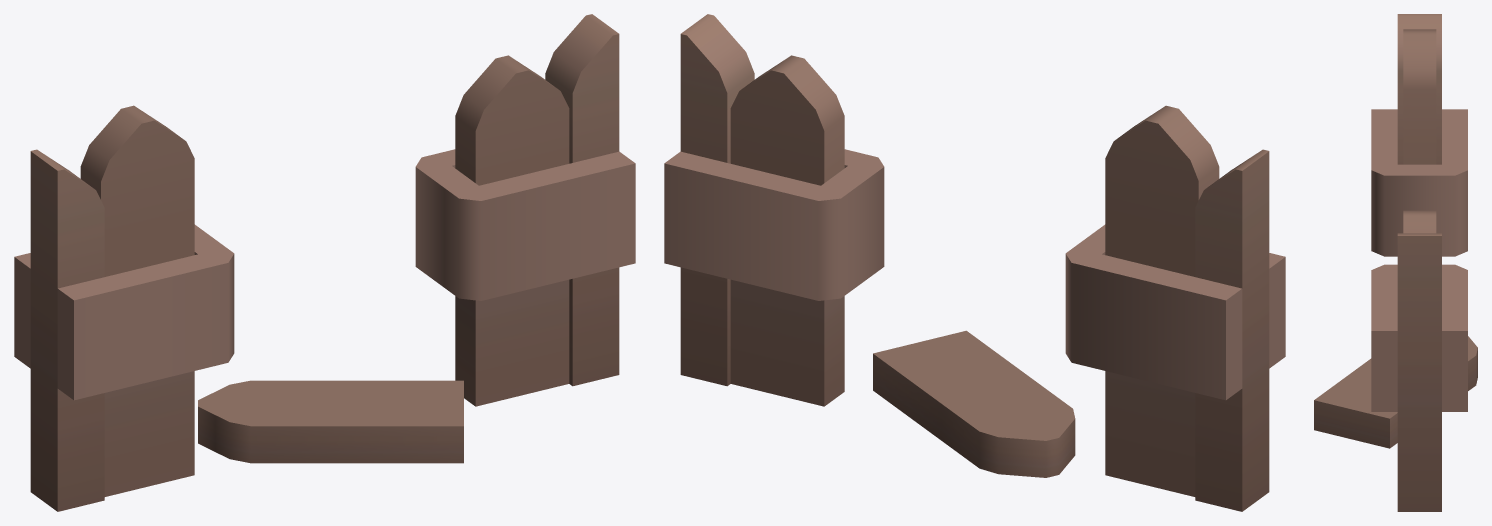
File: fence-damaged.glb
The picture shows the model from 3 angles, left to right: view 1: azimuth 30°, elevation 25°; view 2: azimuth 150°, elevation 25°; view 3: azimuth 270°, elevation 25°; orthographic projection. The views are drawn at different scales.
Parts seen in each view (by area): view 1: fence-damaged; view 2: fence-damaged; view 3: fence-damaged.
Part boxes in pixels (box(x1,y1,x2,y2)): fence-damaged: box(14, 14, 635, 511); fence-damaged: box(664, 14, 1285, 511); fence-damaged: box(1314, 14, 1477, 511).
Bounding box in the file's own units: 1.5 × 0.9301 × 0.4681.
Materials: 1 (1 with a texture image).
